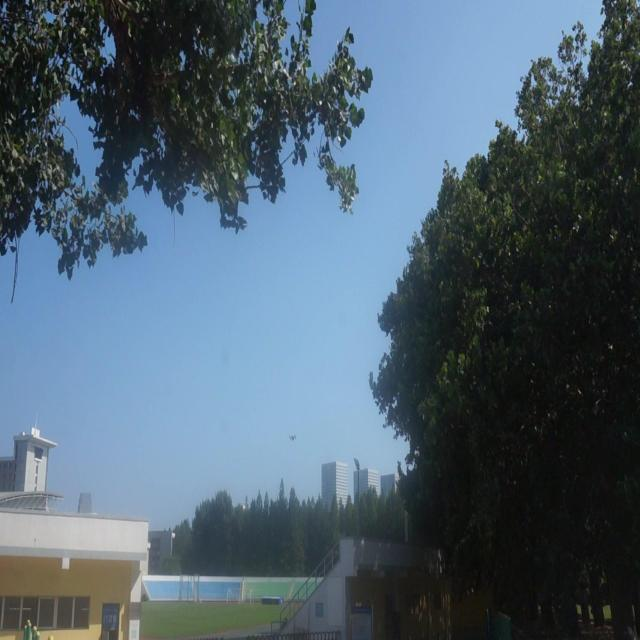drone: (286, 430, 300, 445)
